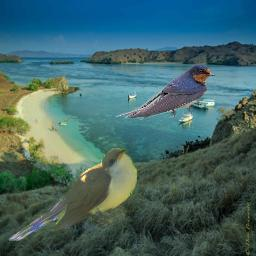Cuckoo: (7, 148, 137, 241)
Swallow: (115, 63, 215, 120)
